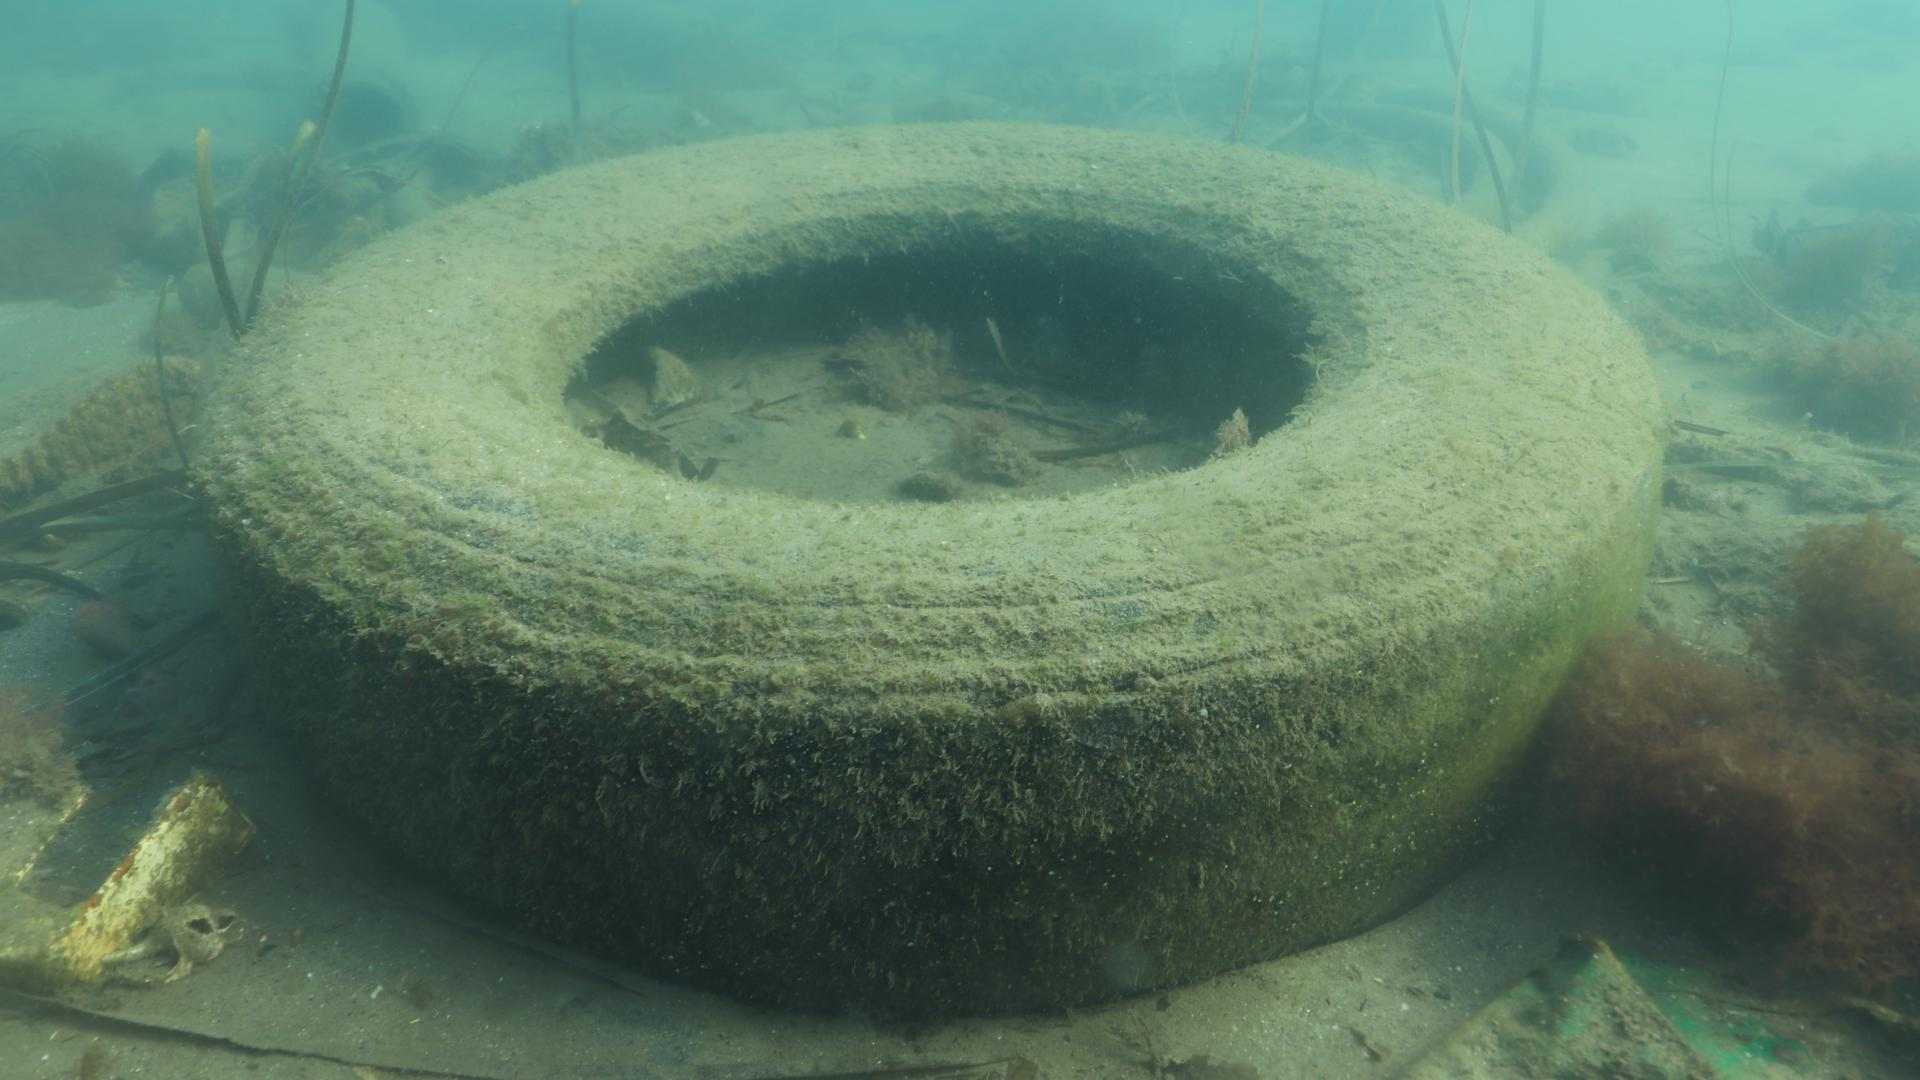tire: (185, 115, 1668, 1023)
